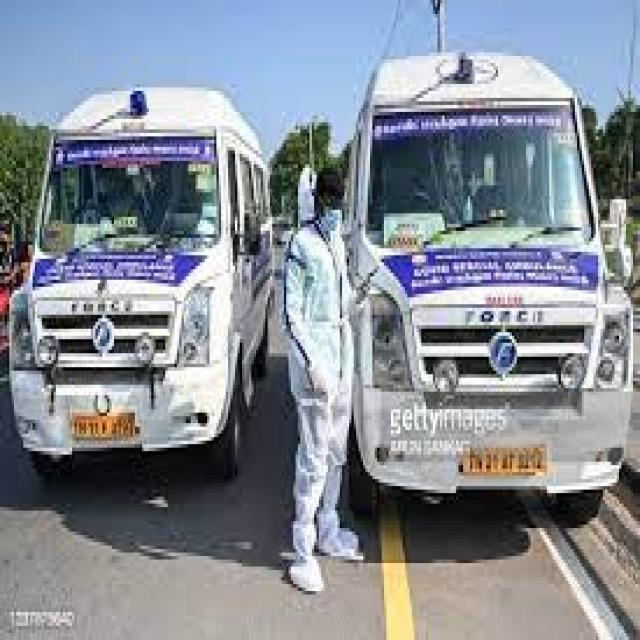ambulance: (346, 55, 634, 520), (9, 88, 274, 475)
